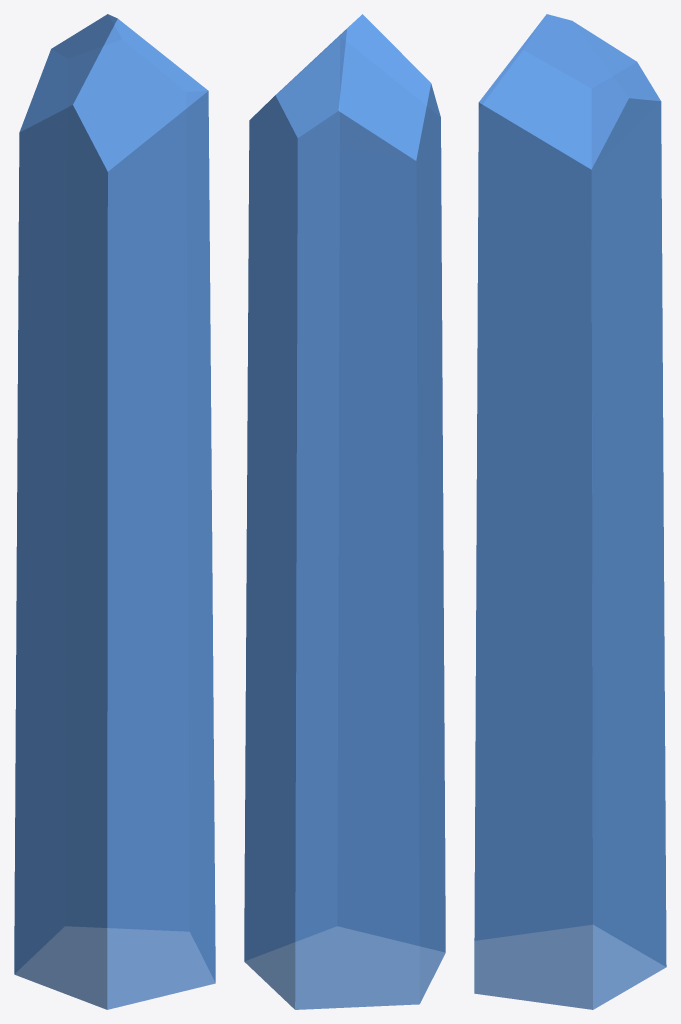
File: Crystal_s_02 2.fbx
3 renders of one model, left to right at view 1: azimuth 30°, elevation 25°; view 2: azimuth 150°, elevation 25°; view 3: azimuth 270°, elevation 25°, orthographic.
Parts seen in each view (by area): view 1: Crystal_s_02; view 2: Crystal_s_02; view 3: Crystal_s_02.
Part boxes in pixels (x1,y1,x2,y2): Crystal_s_02: (14, 14, 215, 1009); Crystal_s_02: (244, 14, 445, 1009); Crystal_s_02: (474, 14, 666, 1009).
Size of the model in its own units: 24.5 by 127 by 23.3.
